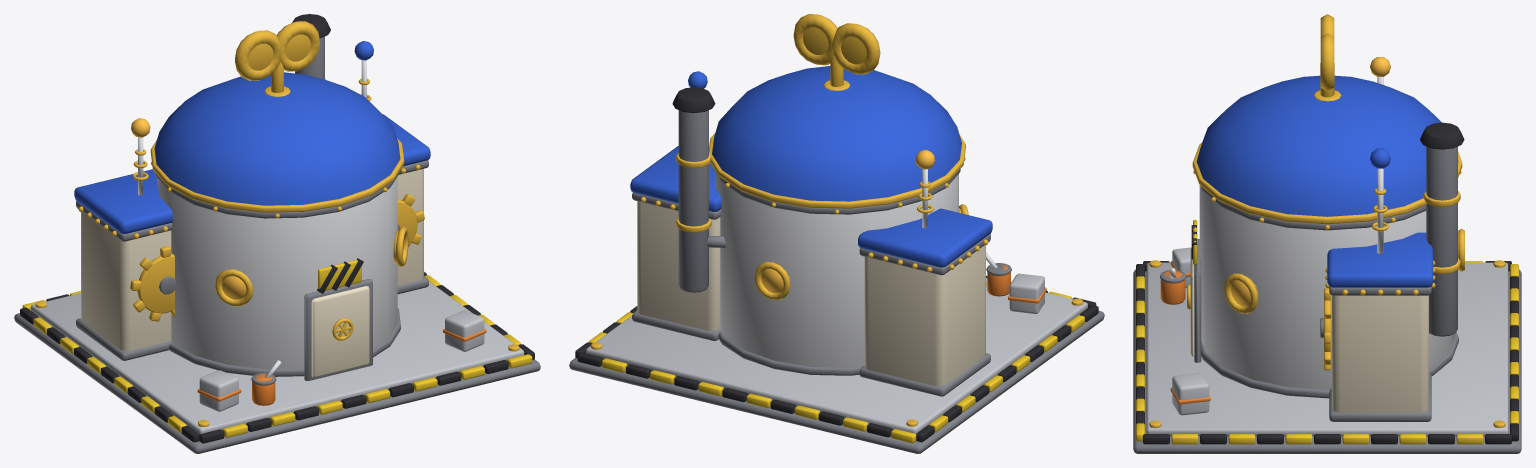
The model's file is TownCentre.glb.
The picture shows the model from 3 angles, left to right: view 1: azimuth 30°, elevation 25°; view 2: azimuth 150°, elevation 25°; view 3: azimuth 270°, elevation 25°; orthographic projection. The views are drawn at different scales.
Parts seen in each view (by area): view 1: TownCentre; view 2: TownCentre; view 3: TownCentre.
Boxes of the visible parts, x1,y1,x2,y2 form: TownCentre: (14,14,540,453); TownCentre: (569,14,1104,453); TownCentre: (1133,14,1521,453).
Size of the model in its own units: 4.8 by 4.25 by 4.4.
